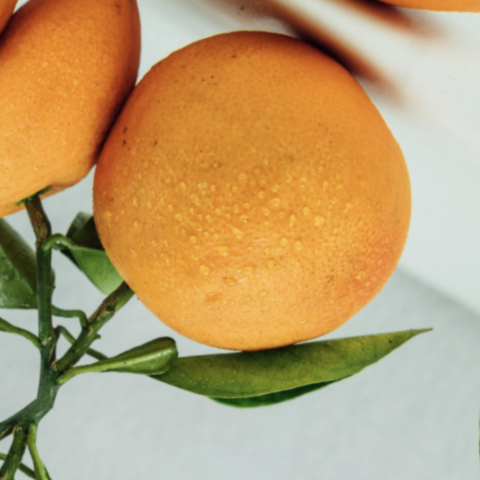orange: (0, 0, 480, 457)
